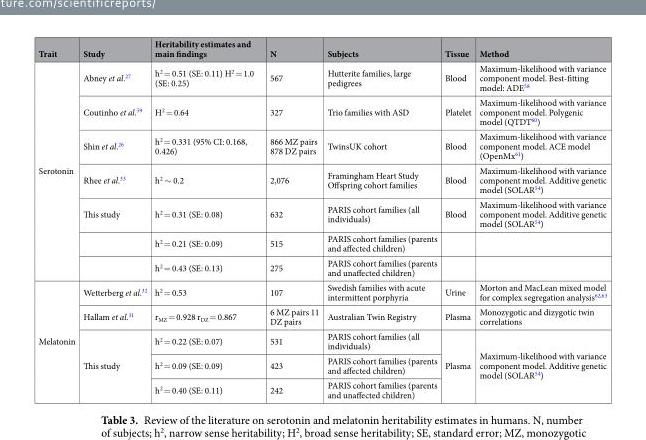table: (37, 37, 606, 400)
table column: (474, 37, 606, 400), (322, 37, 440, 400), (150, 37, 261, 400), (78, 37, 150, 400), (261, 37, 322, 400), (37, 37, 78, 400), (440, 37, 474, 400)
table column header: (37, 37, 606, 60)
table row: (37, 60, 606, 94), (37, 94, 606, 128), (37, 128, 606, 162), (37, 162, 606, 196), (37, 196, 606, 230), (37, 230, 606, 255), (37, 279, 606, 304), (37, 352, 606, 377), (37, 255, 606, 279), (37, 304, 606, 328), (37, 328, 606, 352), (37, 37, 606, 60), (37, 377, 606, 400)
table spanning cell: (474, 328, 606, 400), (37, 60, 78, 279), (78, 328, 150, 400), (37, 279, 78, 400), (440, 328, 474, 400)
